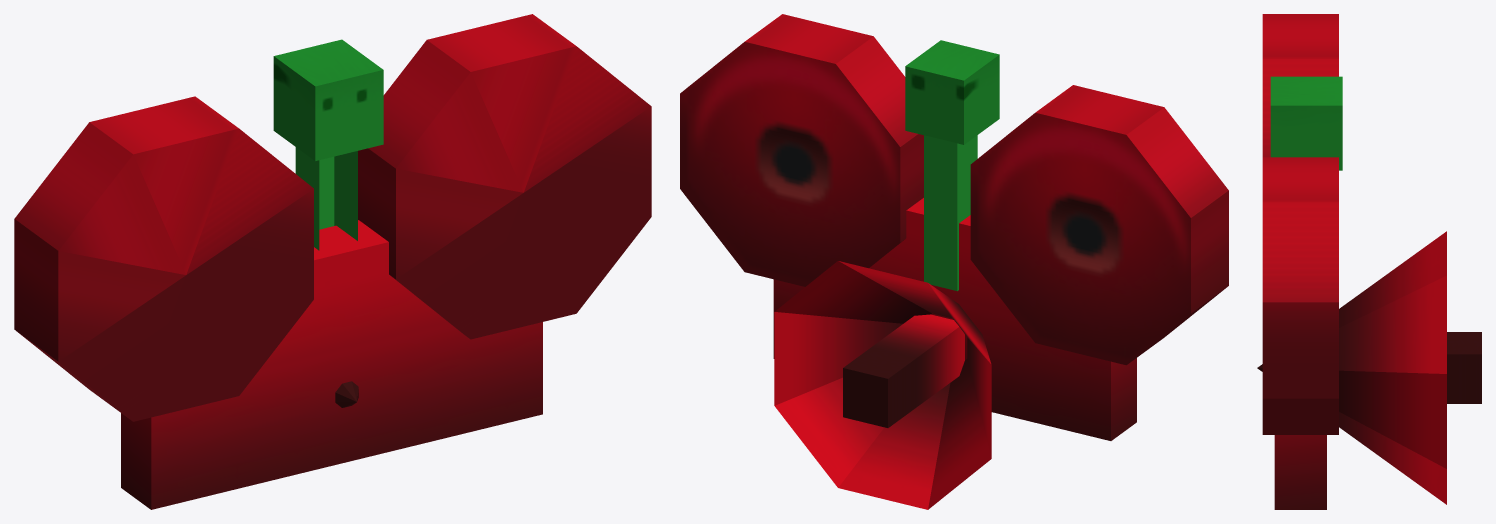
The model's file is Appliance_3.fbx.
The picture shows the model from 3 angles, left to right: view 1: azimuth 30°, elevation 25°; view 2: azimuth 150°, elevation 25°; view 3: azimuth 270°, elevation 25°; orthographic projection. The views are drawn at different scales.
Visible parts, largest first — view 1: Appliance.051; view 2: Appliance.051; view 3: Appliance.051.
Boxes of the visible parts, x1=… form: Appliance.051: x1=14, y1=14, x2=651, y2=509; Appliance.051: x1=680, y1=14, x2=1228, y2=509; Appliance.051: x1=1257, y1=14, x2=1481, y2=509.
Size of the model in its own units: 57.27 by 41.54 by 21.63.
